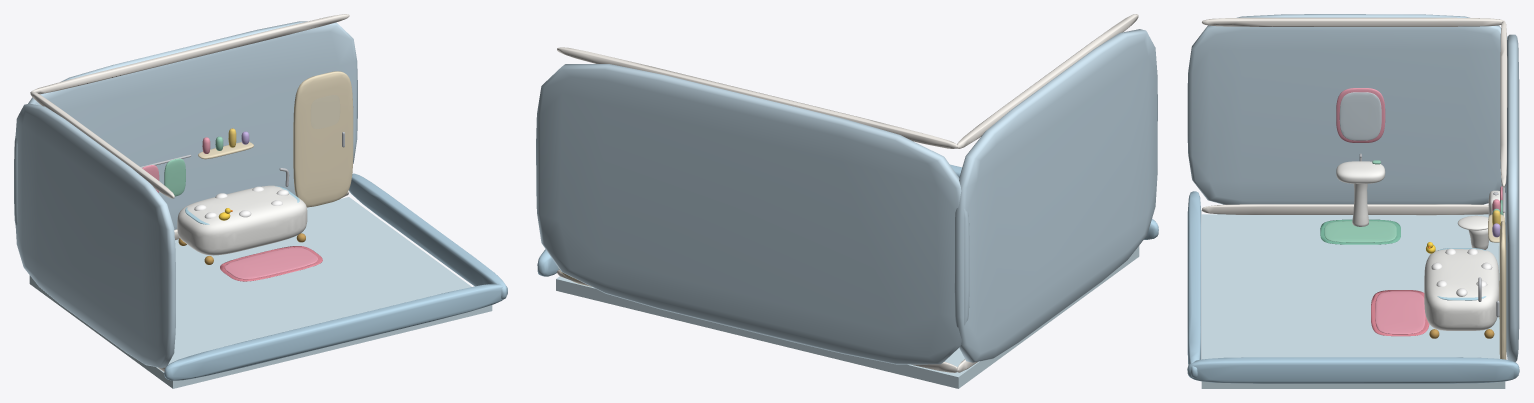
File: casa_bano.glb
The picture shows the model from 3 angles, left to right: view 1: azimuth 30°, elevation 25°; view 2: azimuth 150°, elevation 25°; view 3: azimuth 270°, elevation 25°; orthographic projection. The views are drawn at different scales.
Parts seen in each view (by area): view 1: pared fondo.002, pared izquierda.002, piso.002, muro bajo frente.002, puerta.003, tina, muro bajo derecha.002, cornisa fondo.002, tapete.001, cornisa izquierda.002, toalla.001, borde tapete.001 (+1 smaller); view 2: pared fondo.002, pared izquierda.002, piso.002, cornisa fondo.002, cornisa izquierda.002; view 3: pared izquierda.002, piso.002, muro bajo derecha.002, tina, pared fondo.002, zócalo izquierdo.002, cornisa izquierda.002, muro bajo frente.002, tapete.001, espejo, tapete.002, cornisa fondo.002 (+8 smaller).
Boxes of the visible parts, bbox=[...] form: pared fondo.002: bbox=[14, 21, 357, 229]; pared izquierda.002: bbox=[15, 103, 175, 368]; piso.002: bbox=[29, 197, 492, 388]; muro bajo frente.002: bbox=[164, 283, 507, 380]; puerta.003: bbox=[293, 71, 353, 206]; tina: bbox=[177, 185, 307, 255]; muro bajo derecha.002: bbox=[348, 173, 506, 299]; cornisa fondo.002: bbox=[30, 14, 349, 94]; tapete.001: bbox=[224, 247, 317, 279]; cornisa izquierda.002: bbox=[30, 91, 174, 198]; toalla.001: bbox=[164, 158, 185, 196]; borde tapete.001: bbox=[220, 246, 322, 281]; pared fondo.002: bbox=[536, 64, 969, 364]; pared izquierda.002: bbox=[954, 29, 1157, 362]; piso.002: bbox=[556, 246, 1139, 388]; cornisa fondo.002: bbox=[557, 47, 958, 148]; cornisa izquierda.002: bbox=[956, 14, 1138, 148]; pared izquierda.002: bbox=[1187, 14, 1507, 204]; piso.002: bbox=[1201, 214, 1505, 388]; muro bajo derecha.002: bbox=[1187, 357, 1519, 383]; tina: bbox=[1424, 249, 1499, 330]; pared fondo.002: bbox=[1505, 34, 1519, 362]; zócalo izquierdo.002: bbox=[1202, 204, 1488, 215]; cornisa izquierda.002: bbox=[1202, 17, 1504, 26]; muro bajo frente.002: bbox=[1187, 191, 1201, 377]; tapete.001: bbox=[1375, 291, 1425, 334]; espejo: bbox=[1339, 92, 1381, 140]; tapete.002: bbox=[1324, 221, 1396, 242]; cornisa fondo.002: bbox=[1500, 21, 1507, 187].
Size of the model in its own units: 5.8 by 3.15 by 4.6.
